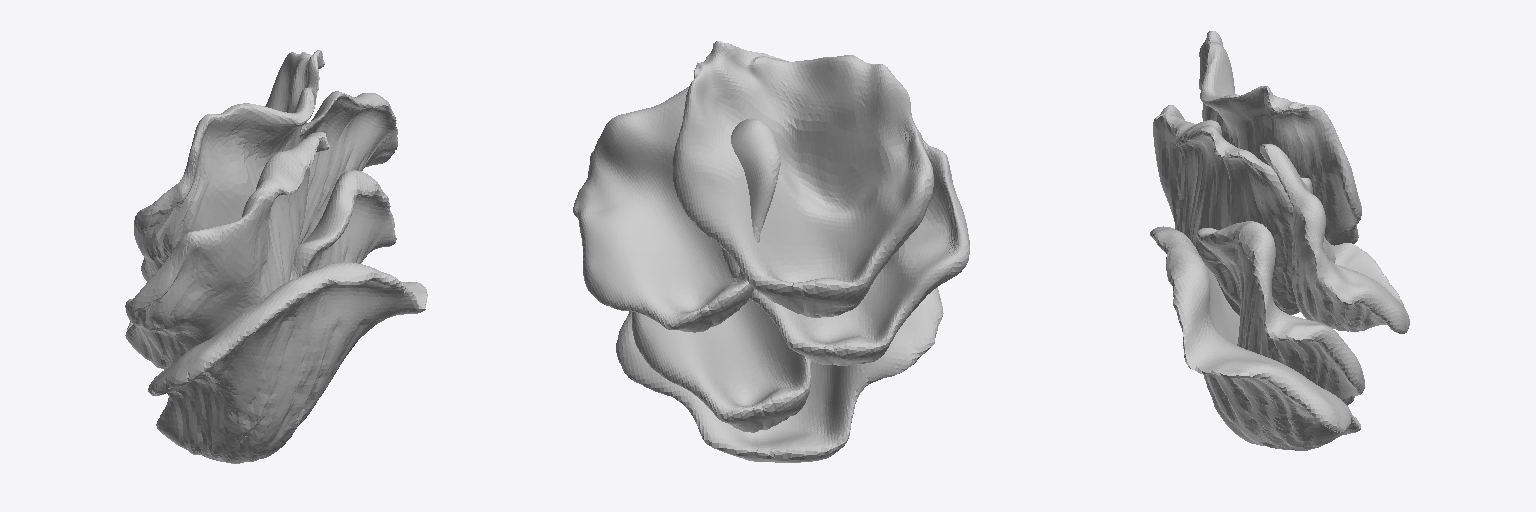
File: PolySphere2_4_high.obj
The picture shows the model from 3 angles: view 1: azimuth 30°, elevation 25°; view 2: azimuth 150°, elevation 25°; view 3: azimuth 270°, elevation 25°; orthographic projection.
Visible parts, largest first — view 1: Group56525; view 2: Group56525; view 3: Group56525.
Boxes of the visible parts, x1=… form: Group56525: x1=125, y1=50, x2=427, y2=463; Group56525: x1=573, y1=41, x2=969, y2=462; Group56525: x1=1150, y1=31, x2=1409, y2=450.
Size of the model in its own units: 0.0941 by 0.1084 by 0.0648.